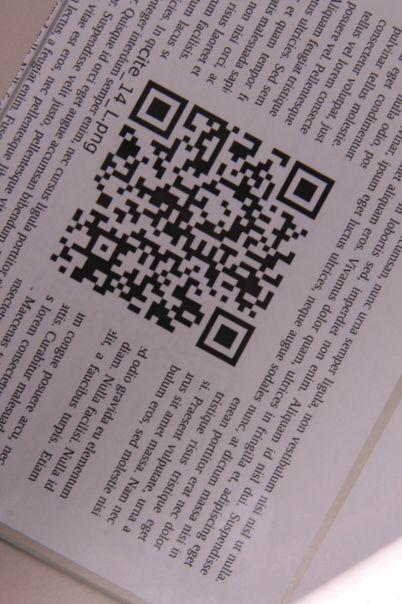Finder pattern: (194, 302, 263, 368), (129, 78, 197, 143), (273, 155, 339, 219)
